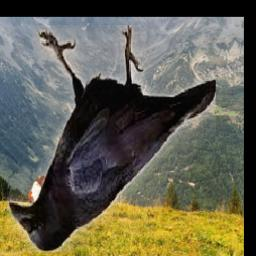Crow: (8, 26, 217, 253)
